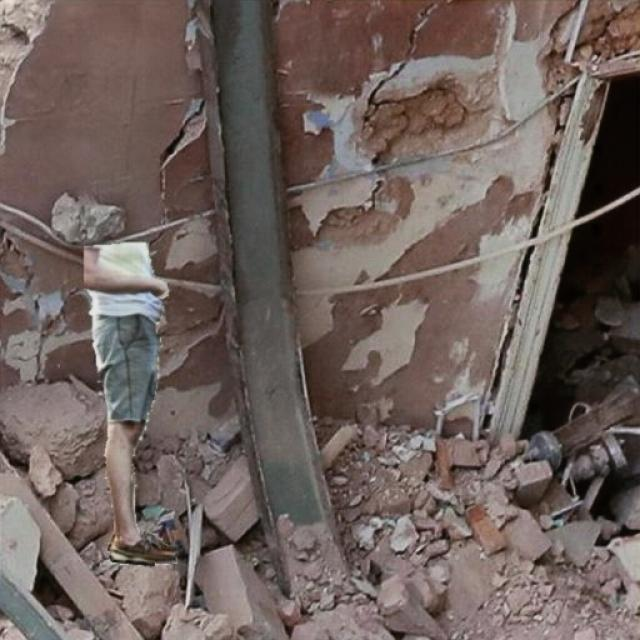Person in Rubble: (84, 243, 176, 566)
